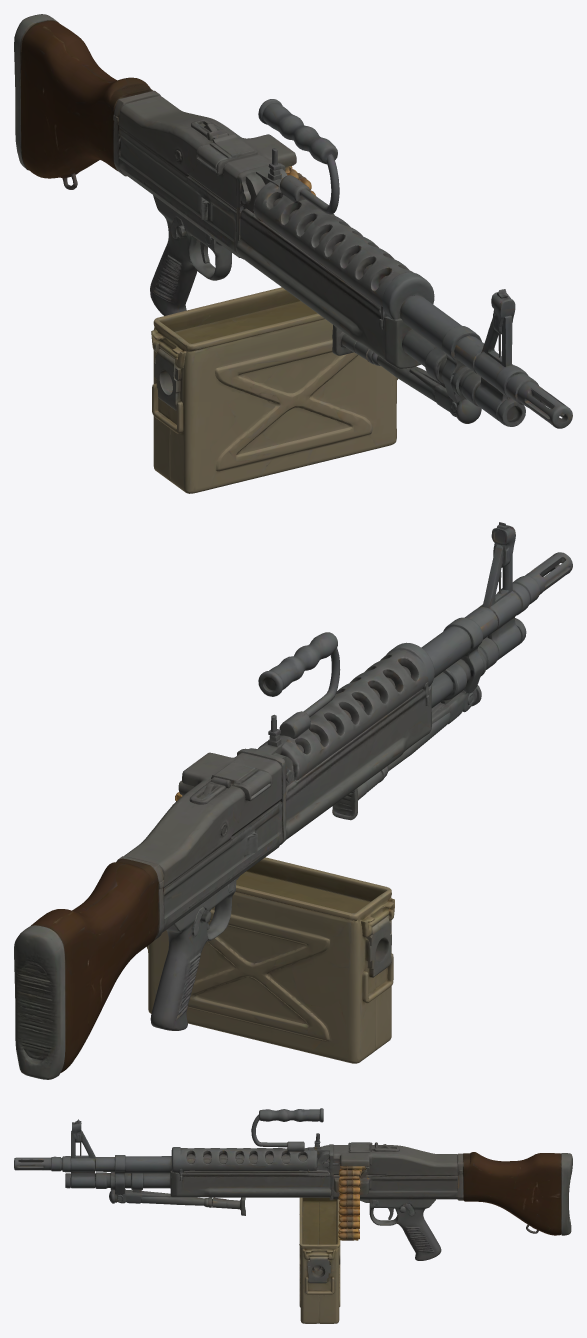
Rendered from lmg.glb.
The picture shows the model from 3 angles, top to bottom: view 1: azimuth 30°, elevation 25°; view 2: azimuth 150°, elevation 25°; view 3: azimuth 270°, elevation 25°; orthographic projection. The views are drawn at different scales.
Parts seen in each view (by area): view 1: model; view 2: model; view 3: model.
Boxes of the visible parts, left/top/right/bottom form: model: left=14, top=14, right=572, bottom=493; model: left=14, top=522, right=572, bottom=1079; model: left=14, top=1108, right=572, bottom=1323.
Bounding box in the file's own units: 0.4622 × 0.7061 × 1.9.
1 material, 1 textured.
